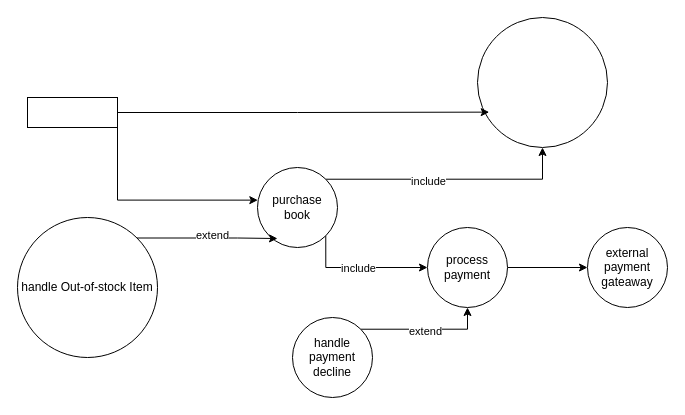
Some shapes in this 685 by 415 pixel diagram are drawn without their labels. The shapes that lost their labels are listed below. From the top down, each one's centre as x and y in pixels, then its label:
At pixel 542 82: "search/browse listings".
At pixel 72 112: "buyer".
